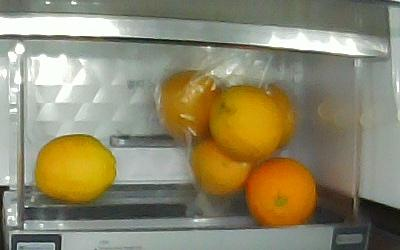orange: (34, 133, 117, 204), (210, 85, 282, 163), (245, 157, 316, 226)
orange_vinyl: (161, 71, 220, 138), (189, 138, 252, 194), (262, 85, 294, 151)
